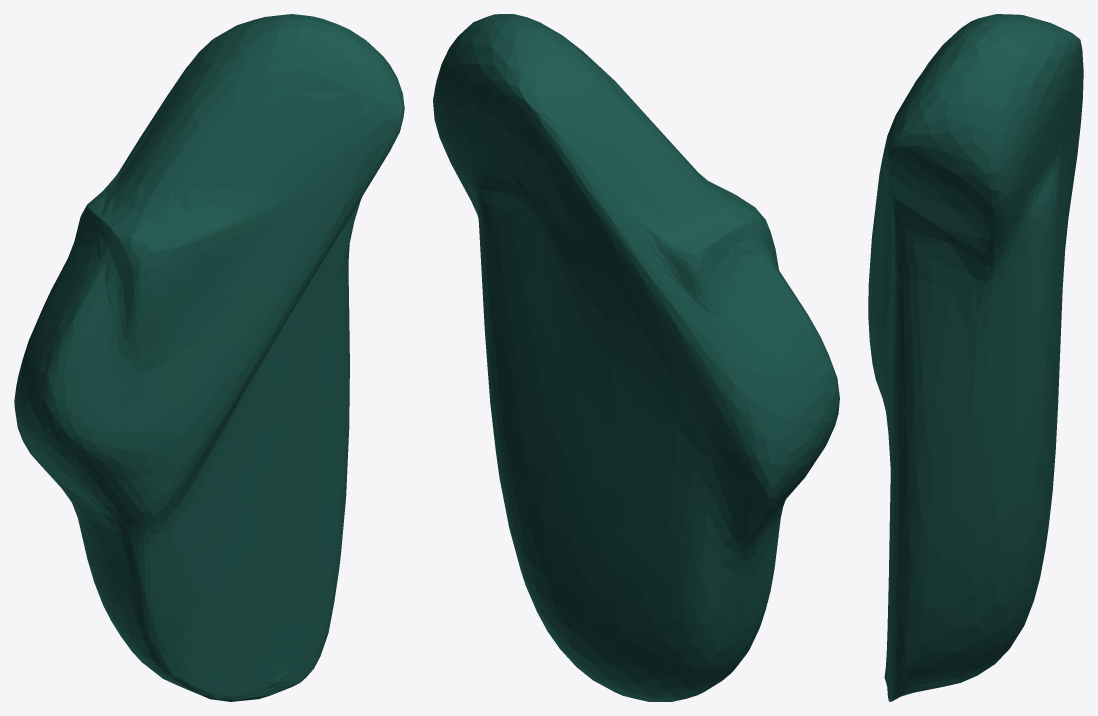
The picture shows the model from 3 angles, left to right: view 1: azimuth 30°, elevation 25°; view 2: azimuth 150°, elevation 25°; view 3: azimuth 270°, elevation 25°; orthographic projection. The views are drawn at different scales.
Visible parts, largest first — view 1: 444_Cube.1799; view 2: 444_Cube.1799; view 3: 444_Cube.1799.
Part boxes in pixels (box(x1,y1,x2,y2)): 444_Cube.1799: box(14, 14, 404, 701); 444_Cube.1799: box(433, 14, 839, 701); 444_Cube.1799: box(868, 14, 1083, 701).
Bounding box in the file's own units: 8.94 × 14.94 × 4.11.
